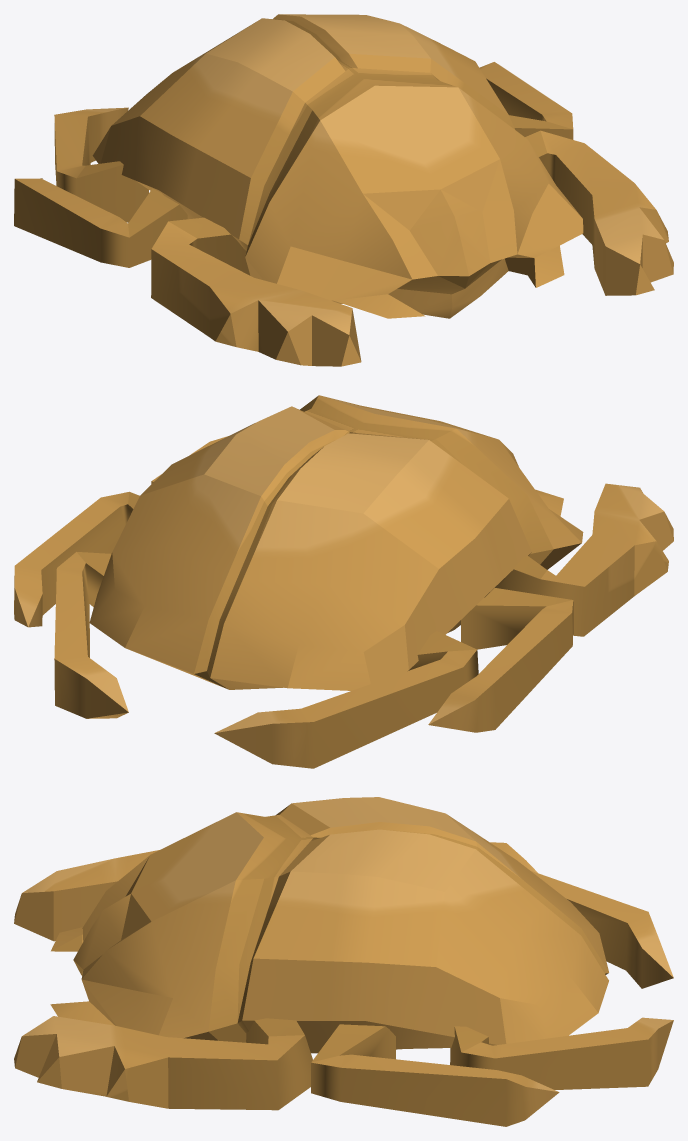
File: SM_Prop_Scarab_01.fbx
The picture shows the model from 3 angles, top to bottom: view 1: azimuth 30°, elevation 25°; view 2: azimuth 150°, elevation 25°; view 3: azimuth 270°, elevation 25°; orthographic projection.
Visible parts, largest first — view 1: SM_Prop_Scarab_01; view 2: SM_Prop_Scarab_01; view 3: SM_Prop_Scarab_01.
Part boxes in pixels (bbox=[...]): SM_Prop_Scarab_01: bbox=[14, 14, 673, 366]; SM_Prop_Scarab_01: bbox=[14, 395, 673, 768]; SM_Prop_Scarab_01: bbox=[14, 797, 673, 1126].
Bounding box in the file's own units: 17.71 × 6.9 × 20.84.
